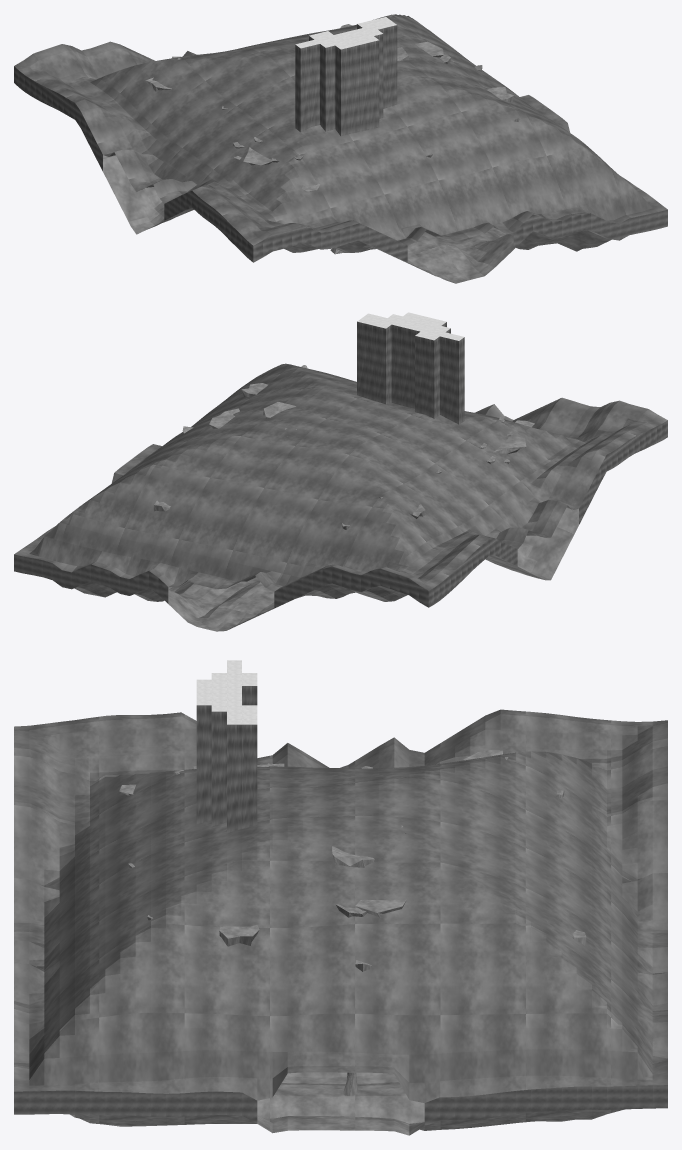
3 renders of one model, top to bottom at view 1: azimuth 30°, elevation 25°; view 2: azimuth 150°, elevation 25°; view 3: azimuth 270°, elevation 25°, orthographic. The views are drawn at different scales.
Visible parts, largest first — view 1: CavernVault, CavernShaft, CavernWalls, CavernFloor, CavernSkyCap, CavernStalactites, CavernColumns; view 2: CavernVault, CavernWalls, CavernShaft, CavernFloor, CavernSkyCap, CavernStalactites, CavernColumns; view 3: CavernVault, CavernFloor, CavernWalls, CavernShaft, CavernSkyCap, CavernStalactites, CavernColumns.
Part boxes in pixels (x1,y1,x2,y2): CavernVault: (14, 14, 667, 245); CavernShaft: (295, 24, 397, 136); CavernWalls: (14, 66, 667, 262); CavernFloor: (103, 155, 611, 283); CavernSkyCap: (295, 17, 396, 49); CavernStalactites: (172, 24, 519, 191); CavernColumns: (145, 47, 514, 102); CavernVault: (14, 363, 667, 591); CavernWalls: (14, 420, 667, 608); CavernShaft: (357, 321, 464, 424); CavernFloor: (74, 507, 578, 631); CavernSkyCap: (357, 312, 463, 340); CavernStalactites: (153, 365, 534, 529); CavernColumns: (241, 383, 425, 518); CavernVault: (14, 709, 667, 1102); CavernFloor: (63, 1072, 624, 1135); CavernWalls: (14, 1085, 667, 1125); CavernShaft: (196, 686, 257, 832); CavernSkyCap: (196, 660, 257, 724); CavernStalactites: (119, 757, 586, 971); CavernColumns: (219, 750, 502, 946).
Size of the model in its own units: 92 by 48.61 by 92.
6 materials, 6 textured.
